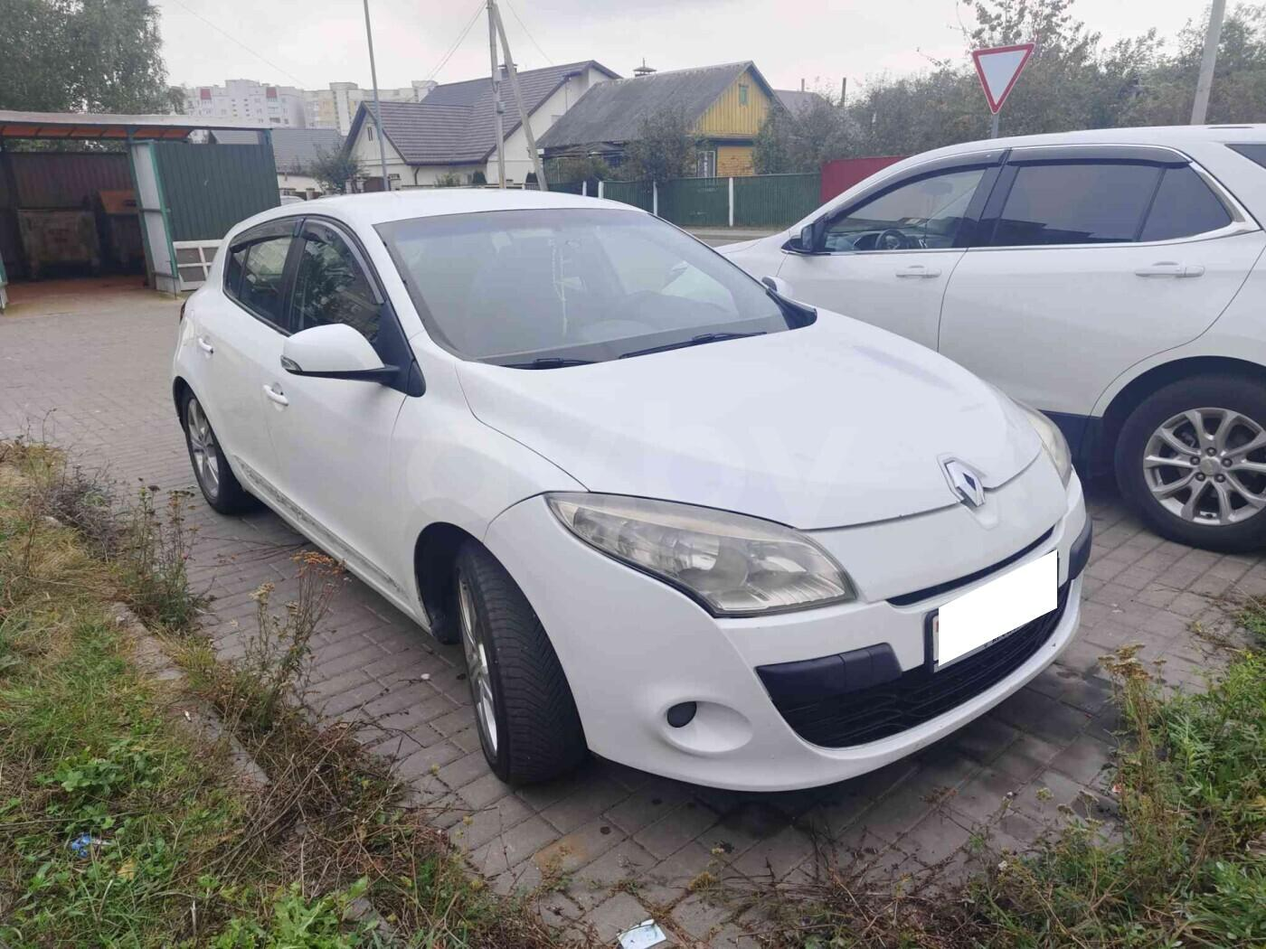Megane_2008-2014: (158, 186, 1097, 808)
